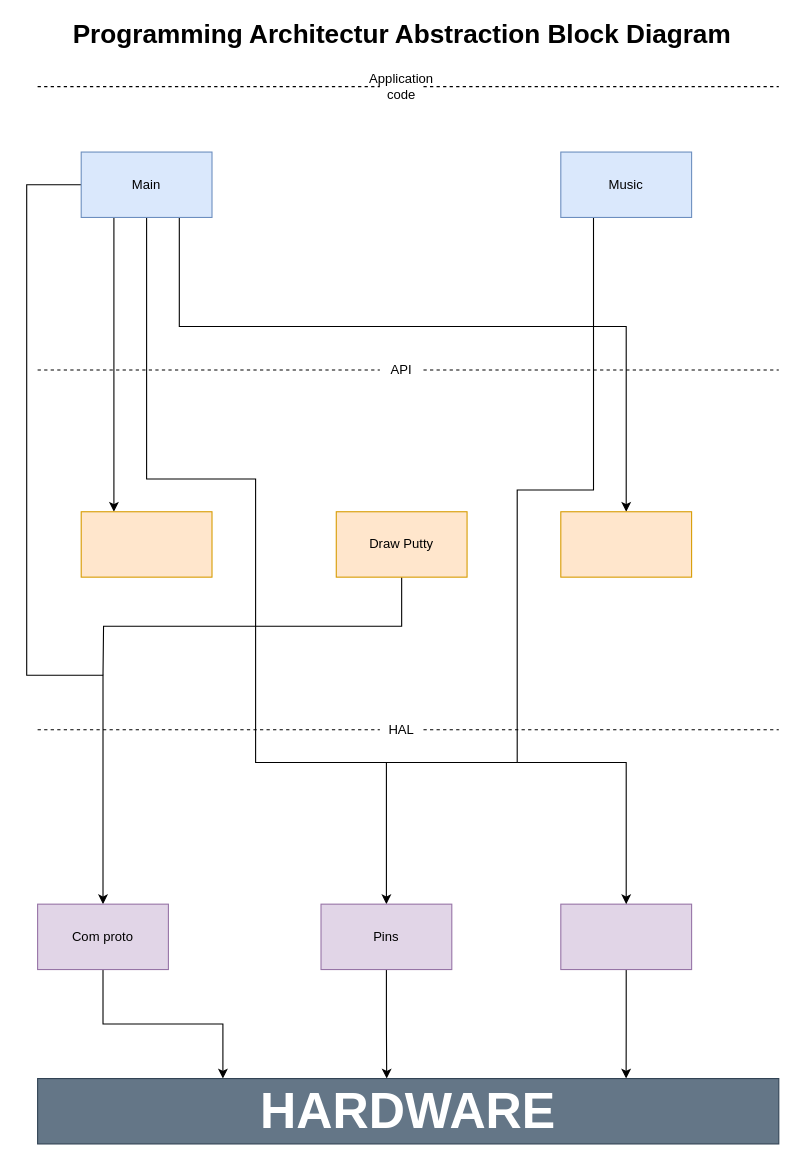
This 799x1163 diagram has some shape labels left out. Each missing label, with the centre of its shape:
Draw Embed: the point at 626,544
lib sinus: the point at 146,544
Timer: the point at 626,936
